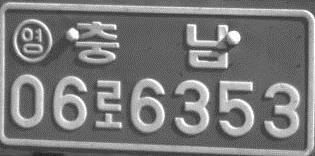0: (9, 72, 44, 128)
3: (262, 81, 299, 138), (173, 78, 209, 136)
5: (217, 79, 255, 137)
6: (128, 76, 165, 134), (51, 75, 87, 132)
로: (94, 78, 122, 129)
영: (11, 18, 53, 63)
충남_D: (73, 19, 231, 69)
